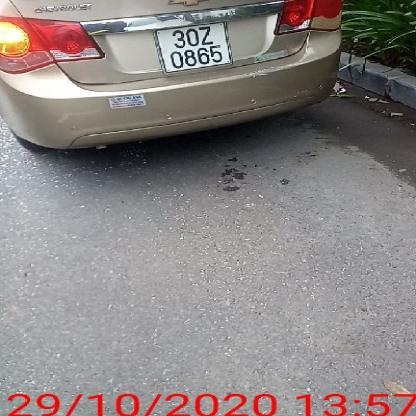biensoxe: (151, 19, 233, 75)
